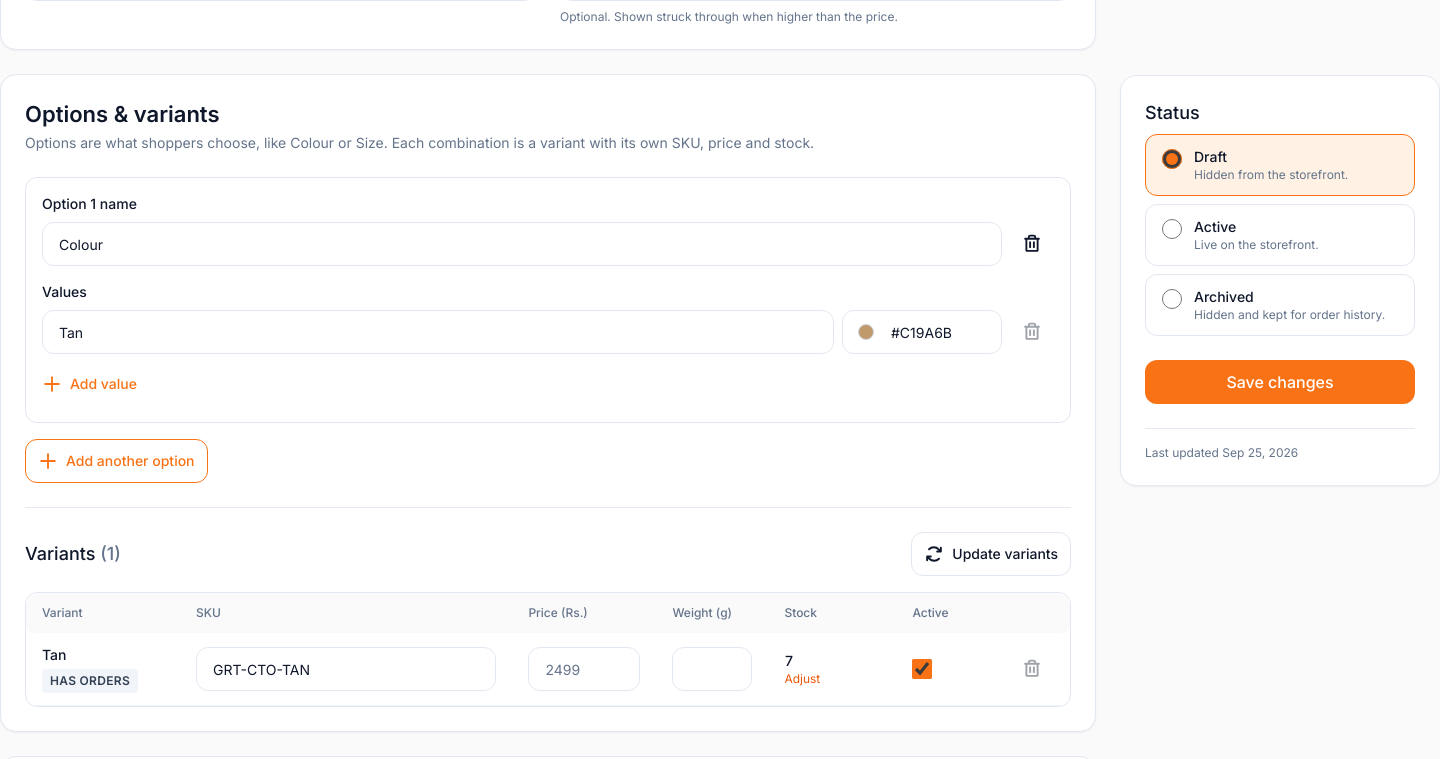
Scenario: ProductForm › keeps existing variants and adds new combinations when variants are updated
(page scrolled)
Click the button "Add value" at (89, 384), box [42,362,137,406]
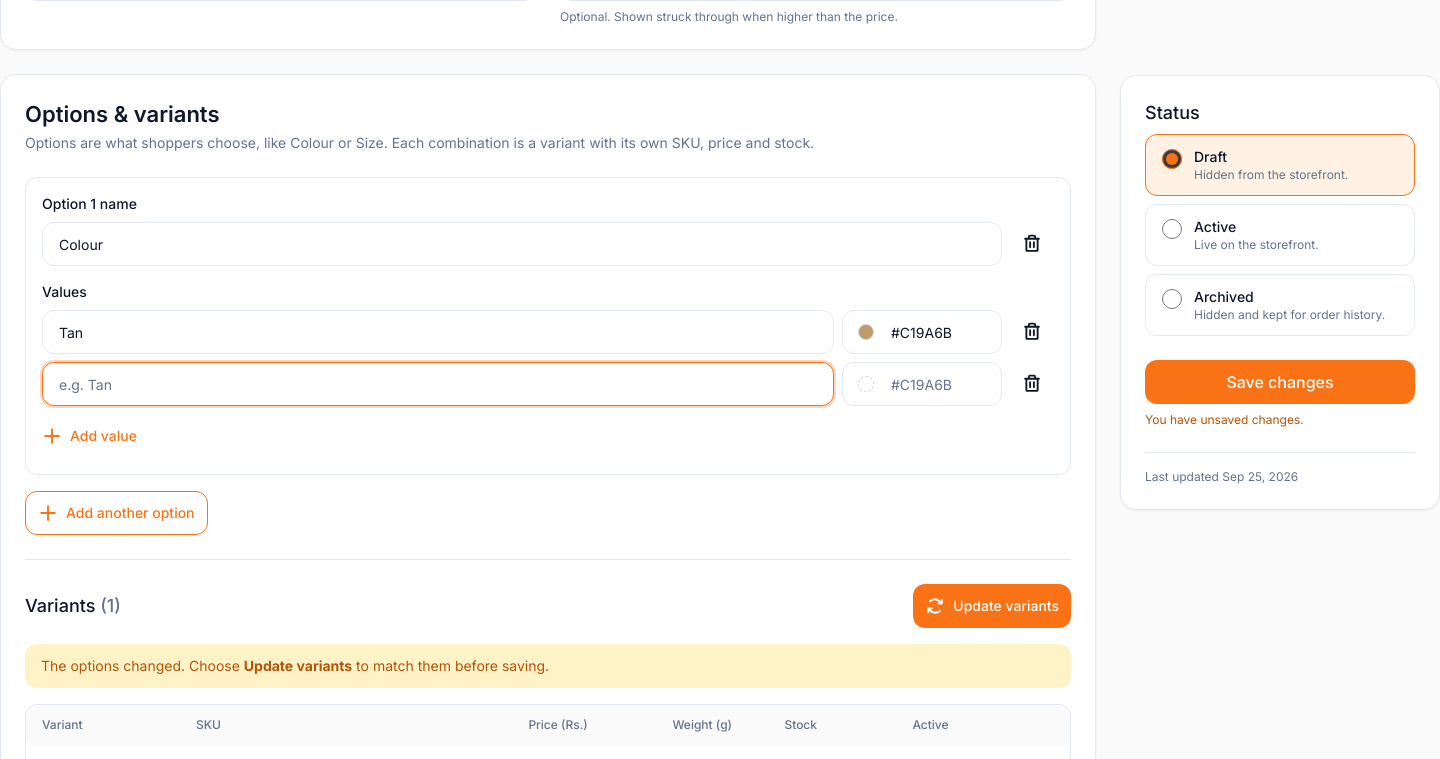
Type "Black" into the field named "Value 2" at (438, 384), box [42,362,834,406]
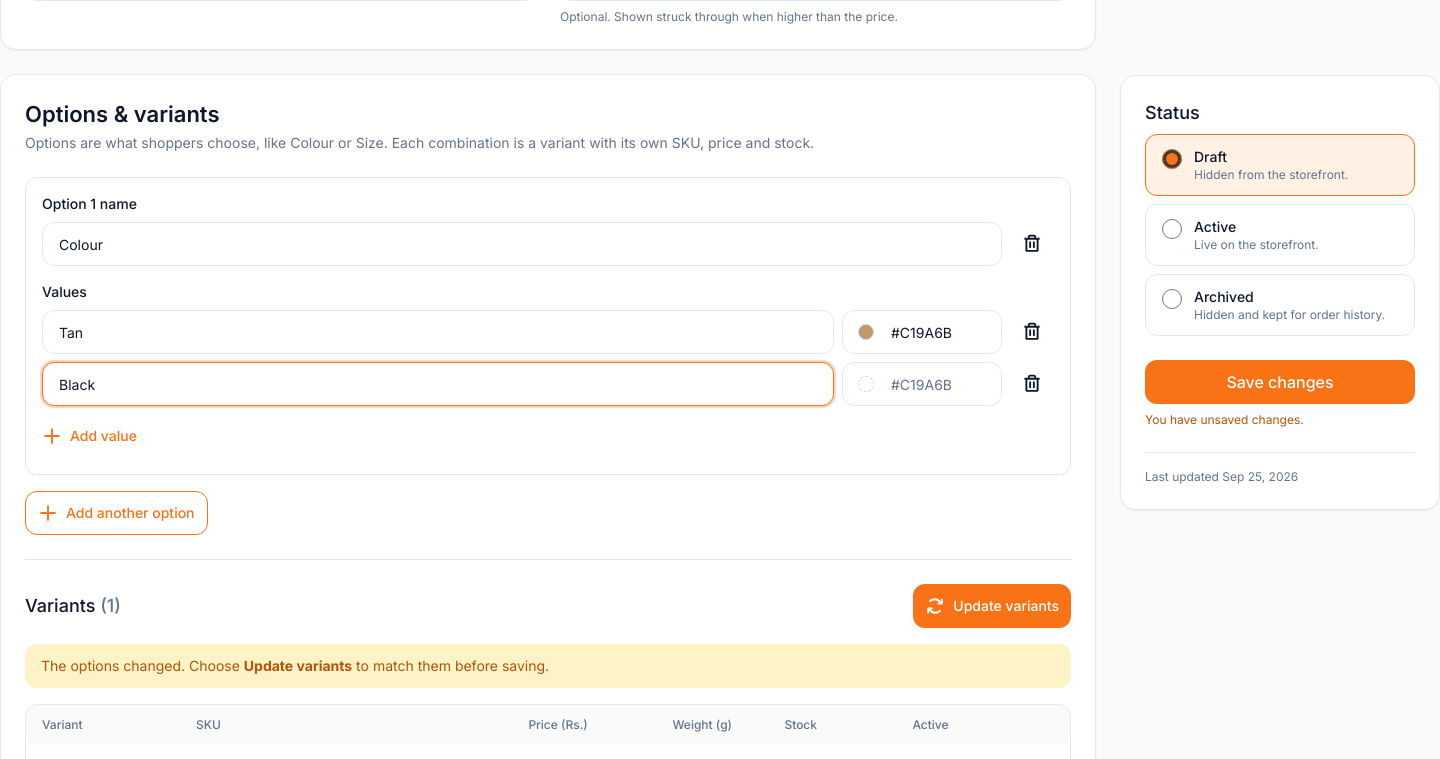
Now the text "The options changed. Choose Update variants to match them before saving." is shown, box [25,644,1071,688]
Click the button "Update variants" at (992, 606), box [913,584,1071,628]
(page scrolled)
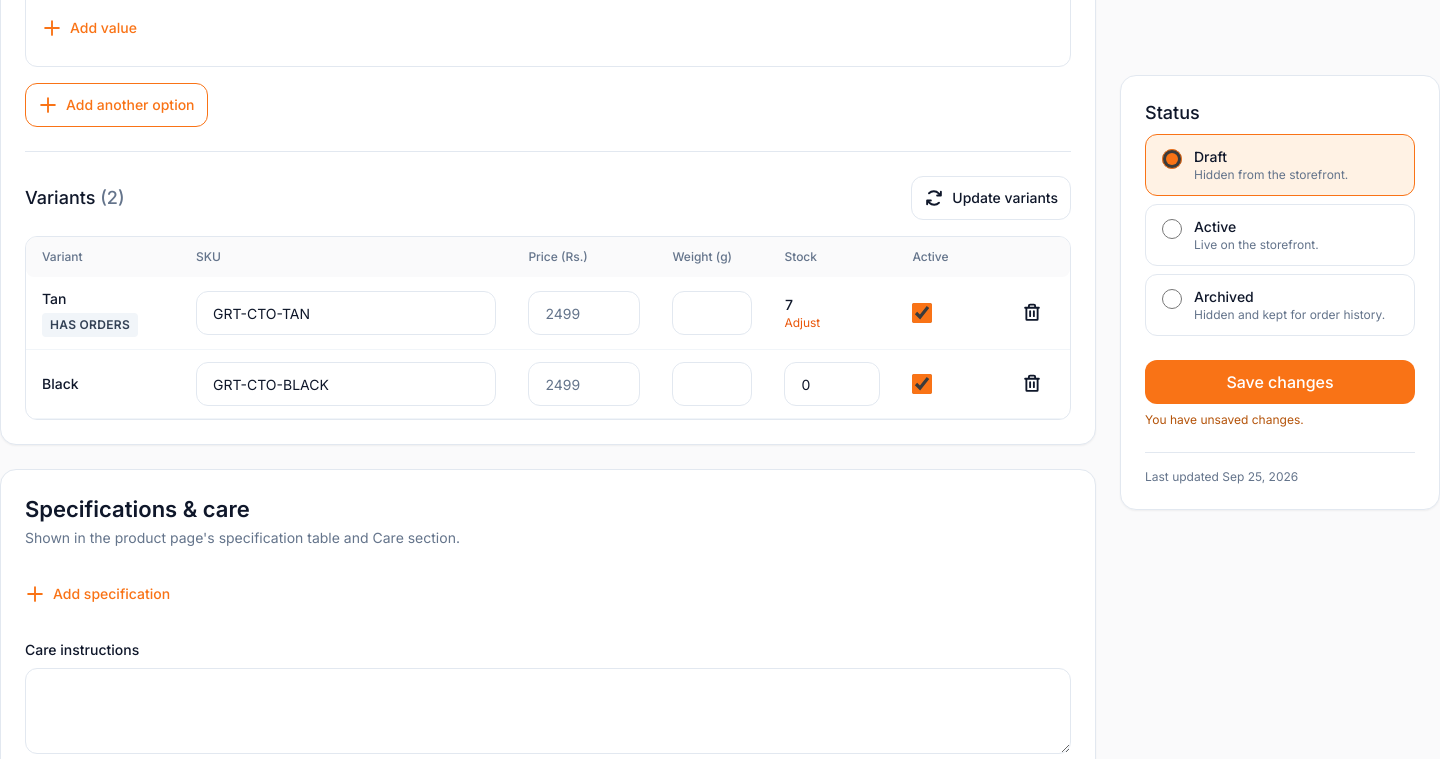
Now the field named "SKU for Black" holds "GRT-CTO-BLACK", box [196,362,496,406]
Now the field named "Starting stock for Black" holds "0", box [784,362,880,406]
Now the text "The options changed" is gone
